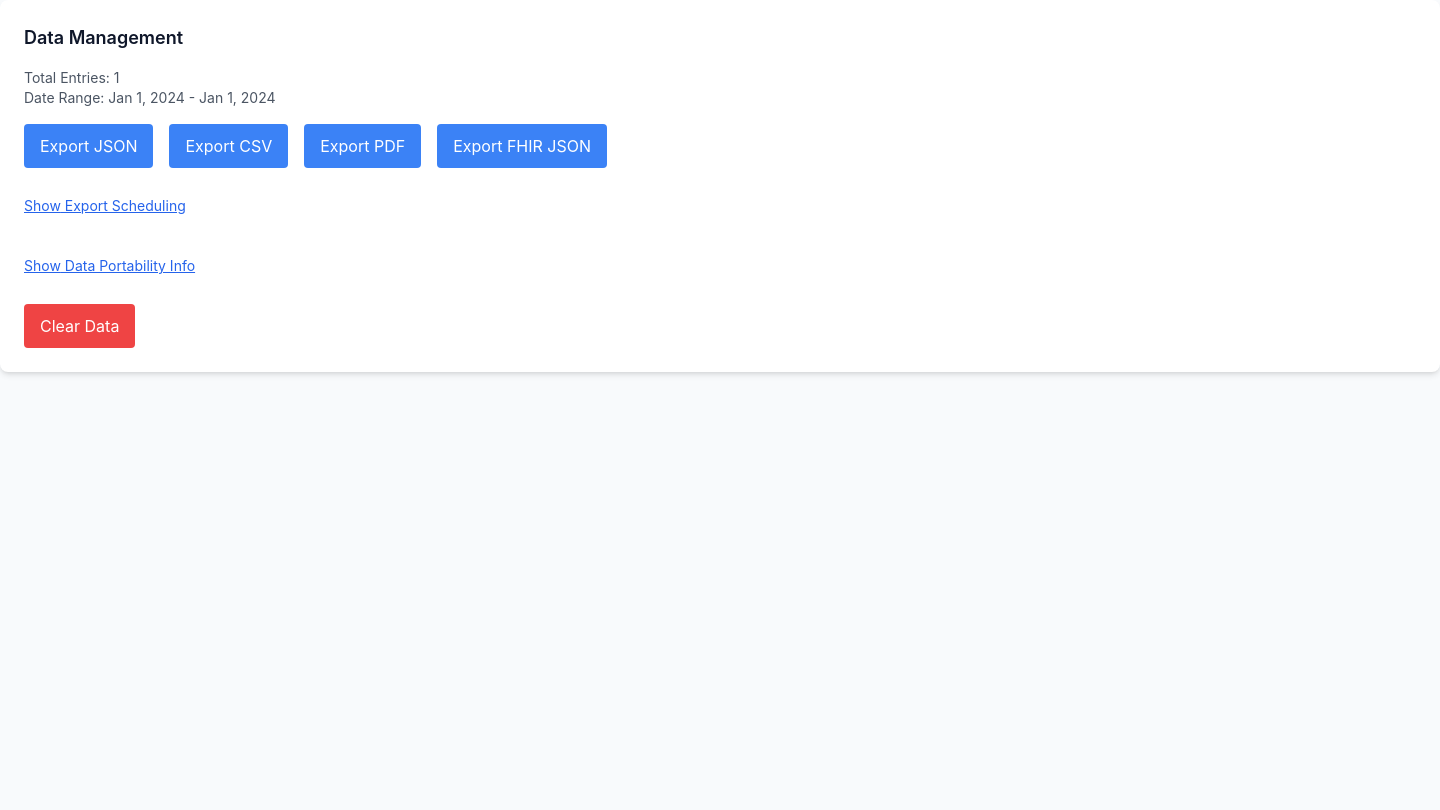
Scenario: SavePanel › shows confirmation dialog when clear data clicked
Click the button "Clear Data" at (80, 326), box [24,304,135,348]
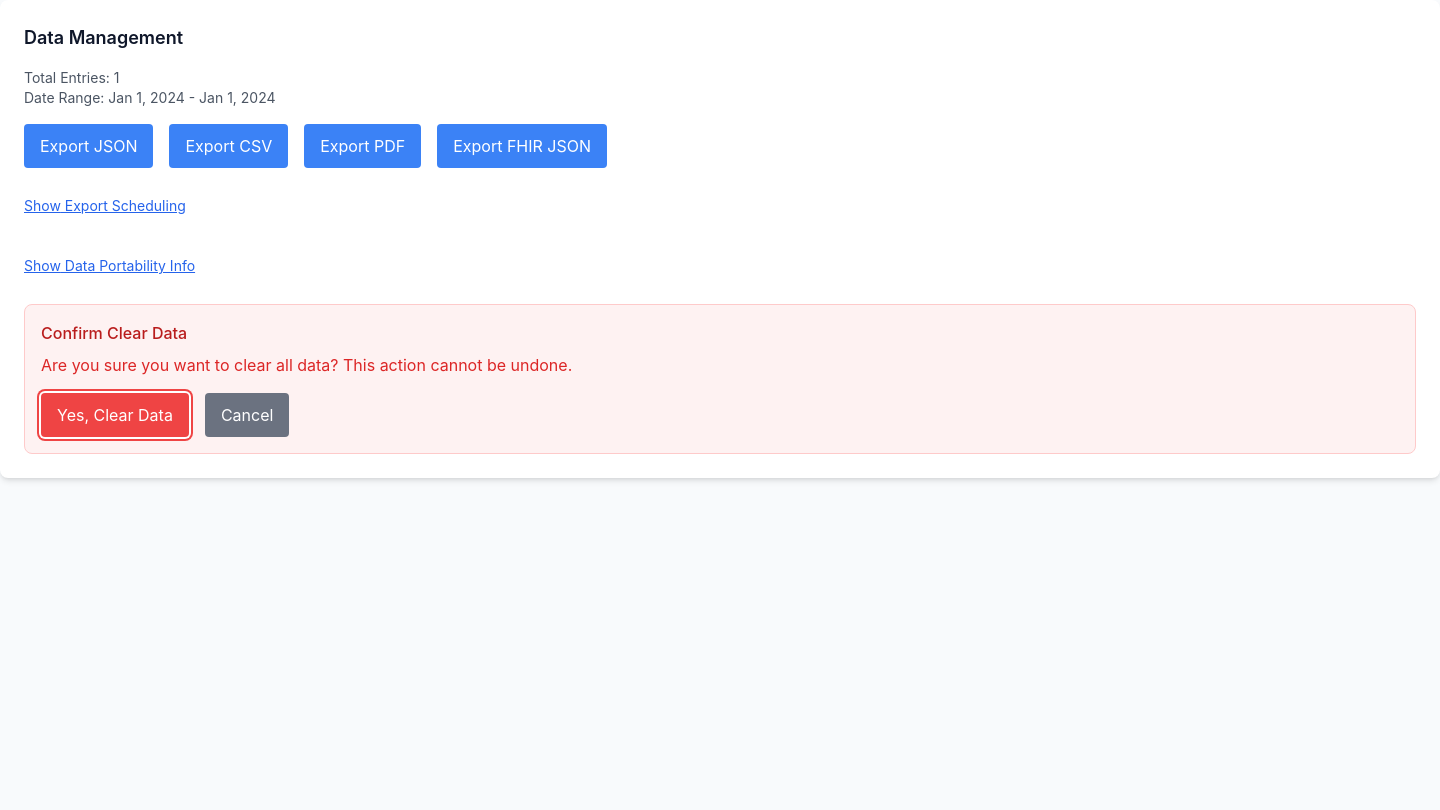
Check: the text "Are you sure you want to clear all data? This action cannot be undone." is shown, box [41,355,572,375]
Check: the button "Yes, Clear Data" is shown, box [41,393,189,437]
Check: the button "Cancel" is shown, box [205,393,289,437]
